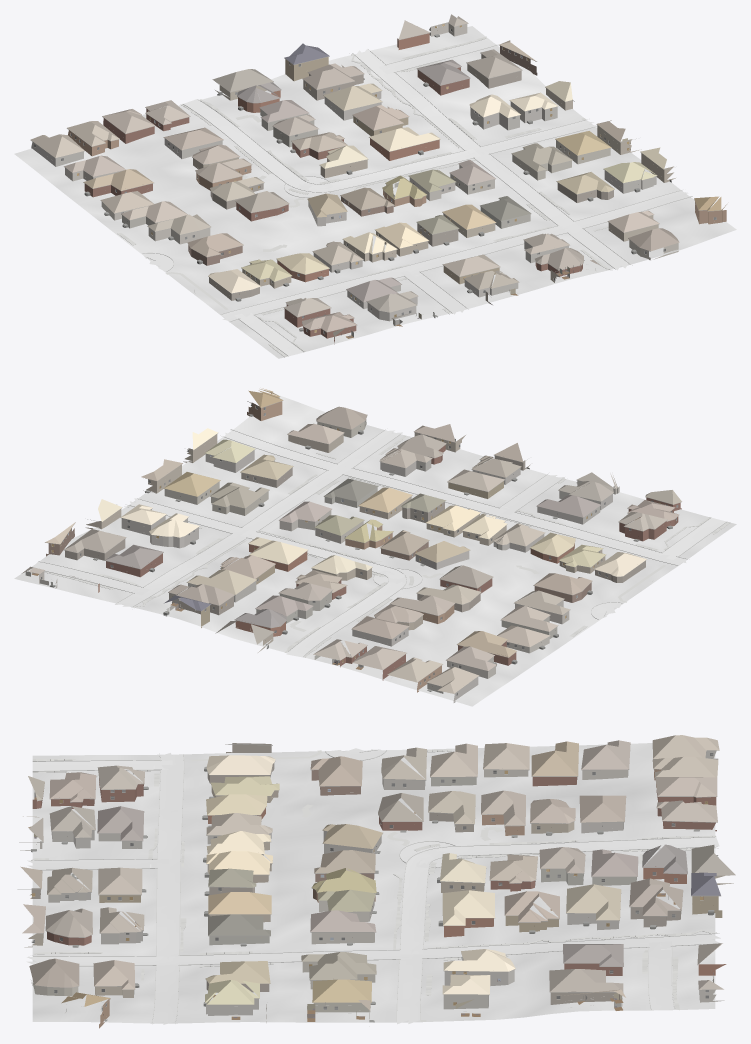
3 renders of one model, top to bottom at view 1: azimuth 30°, elevation 25°; view 2: azimuth 150°, elevation 25°; view 3: azimuth 270°, elevation 25°, orthographic. The views are drawn at different scales.
Parts seen in each view (by area): view 1: ground, roof, concrete, wall, wall_stucco, wall_stone, detail, walk, curb; view 2: ground, roof, concrete, wall, wall_stucco, wall_stone, detail, curb, walk; view 3: ground, roof, concrete, wall, wall_stucco, wall_stone, detail, walk, curb, room, glass.
Boxes of the visible parts, left/top/right/bottom form: ground: left=14, top=26, right=736, bottom=358; roof: left=30, top=14, right=726, bottom=336; concrete: left=142, top=38, right=691, bottom=356; wall: left=68, top=33, right=726, bottom=344; wall_stucco: left=65, top=22, right=678, bottom=325; wall_stone: left=31, top=91, right=656, bottom=321; detail: left=30, top=23, right=720, bottom=339; walk: left=118, top=36, right=610, bottom=356; curb: left=121, top=38, right=692, bottom=357; ground: left=14, top=395, right=736, bottom=706; roof: left=21, top=388, right=681, bottom=693; concrete: left=32, top=429, right=726, bottom=657; wall: left=46, top=393, right=681, bottom=692; wall_stucco: left=39, top=419, right=619, bottom=678; wall_stone: left=121, top=450, right=612, bottom=702; detail: left=28, top=396, right=681, bottom=695; curb: left=32, top=429, right=729, bottom=657; walk: left=30, top=435, right=730, bottom=657; ground: left=32, top=743, right=715, bottom=1023; roof: left=20, top=735, right=735, bottom=1010; concrete: left=26, top=748, right=720, bottom=1024; wall: left=31, top=743, right=726, bottom=1028; wall_stucco: left=20, top=768, right=733, bottom=1018; wall_stone: left=48, top=750, right=718, bottom=1015; detail: left=17, top=744, right=729, bottom=1022; walk: left=31, top=749, right=716, bottom=1021; curb: left=31, top=744, right=719, bottom=1023; room: left=28, top=771, right=714, bottom=1021; glass: left=32, top=753, right=713, bottom=1010.
Bounding box in the file's own units: 259 × 25.61 × 265.
